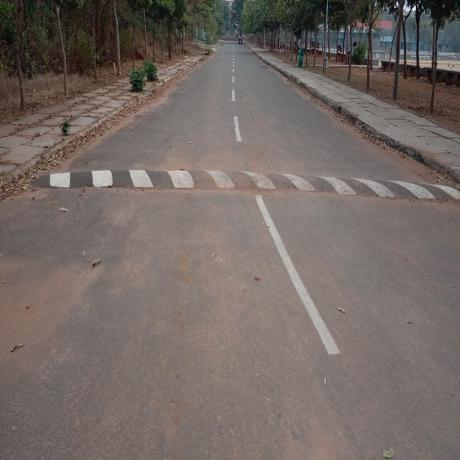Speed Bump: (33, 164, 460, 204)
